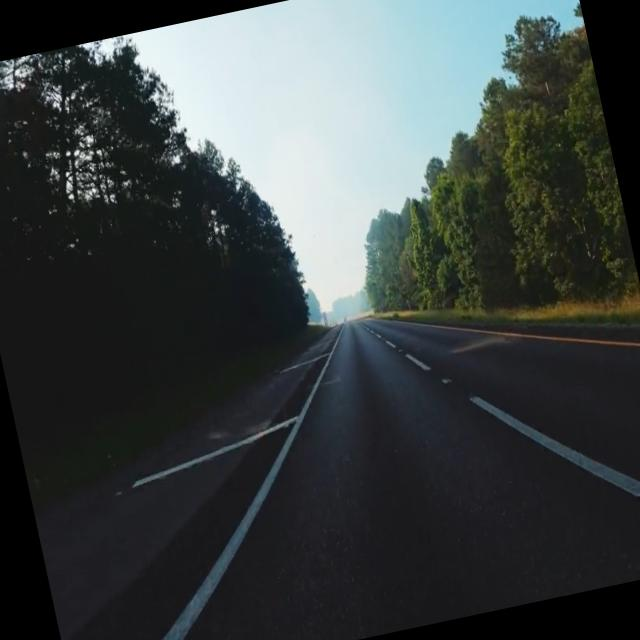asphalt: (37, 320, 640, 640)
